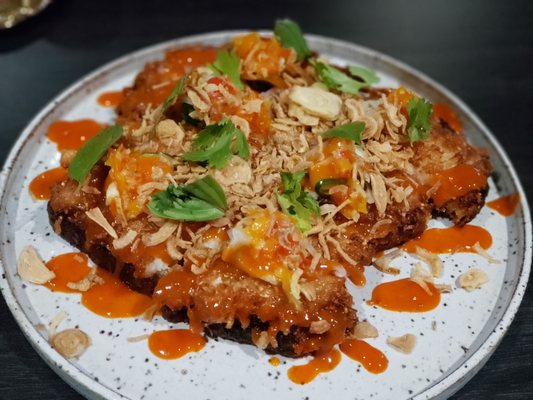curry: (148, 175, 227, 223), (406, 96, 434, 143)
